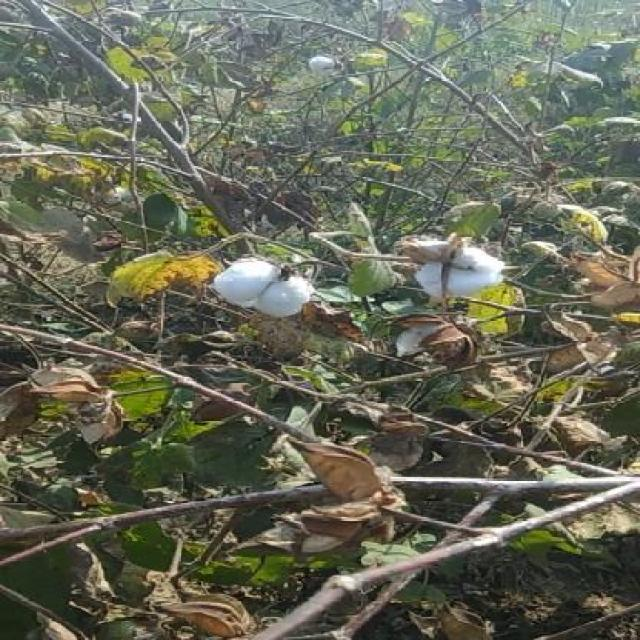cotton_ready: (178, 246, 332, 323), (389, 234, 522, 311)
